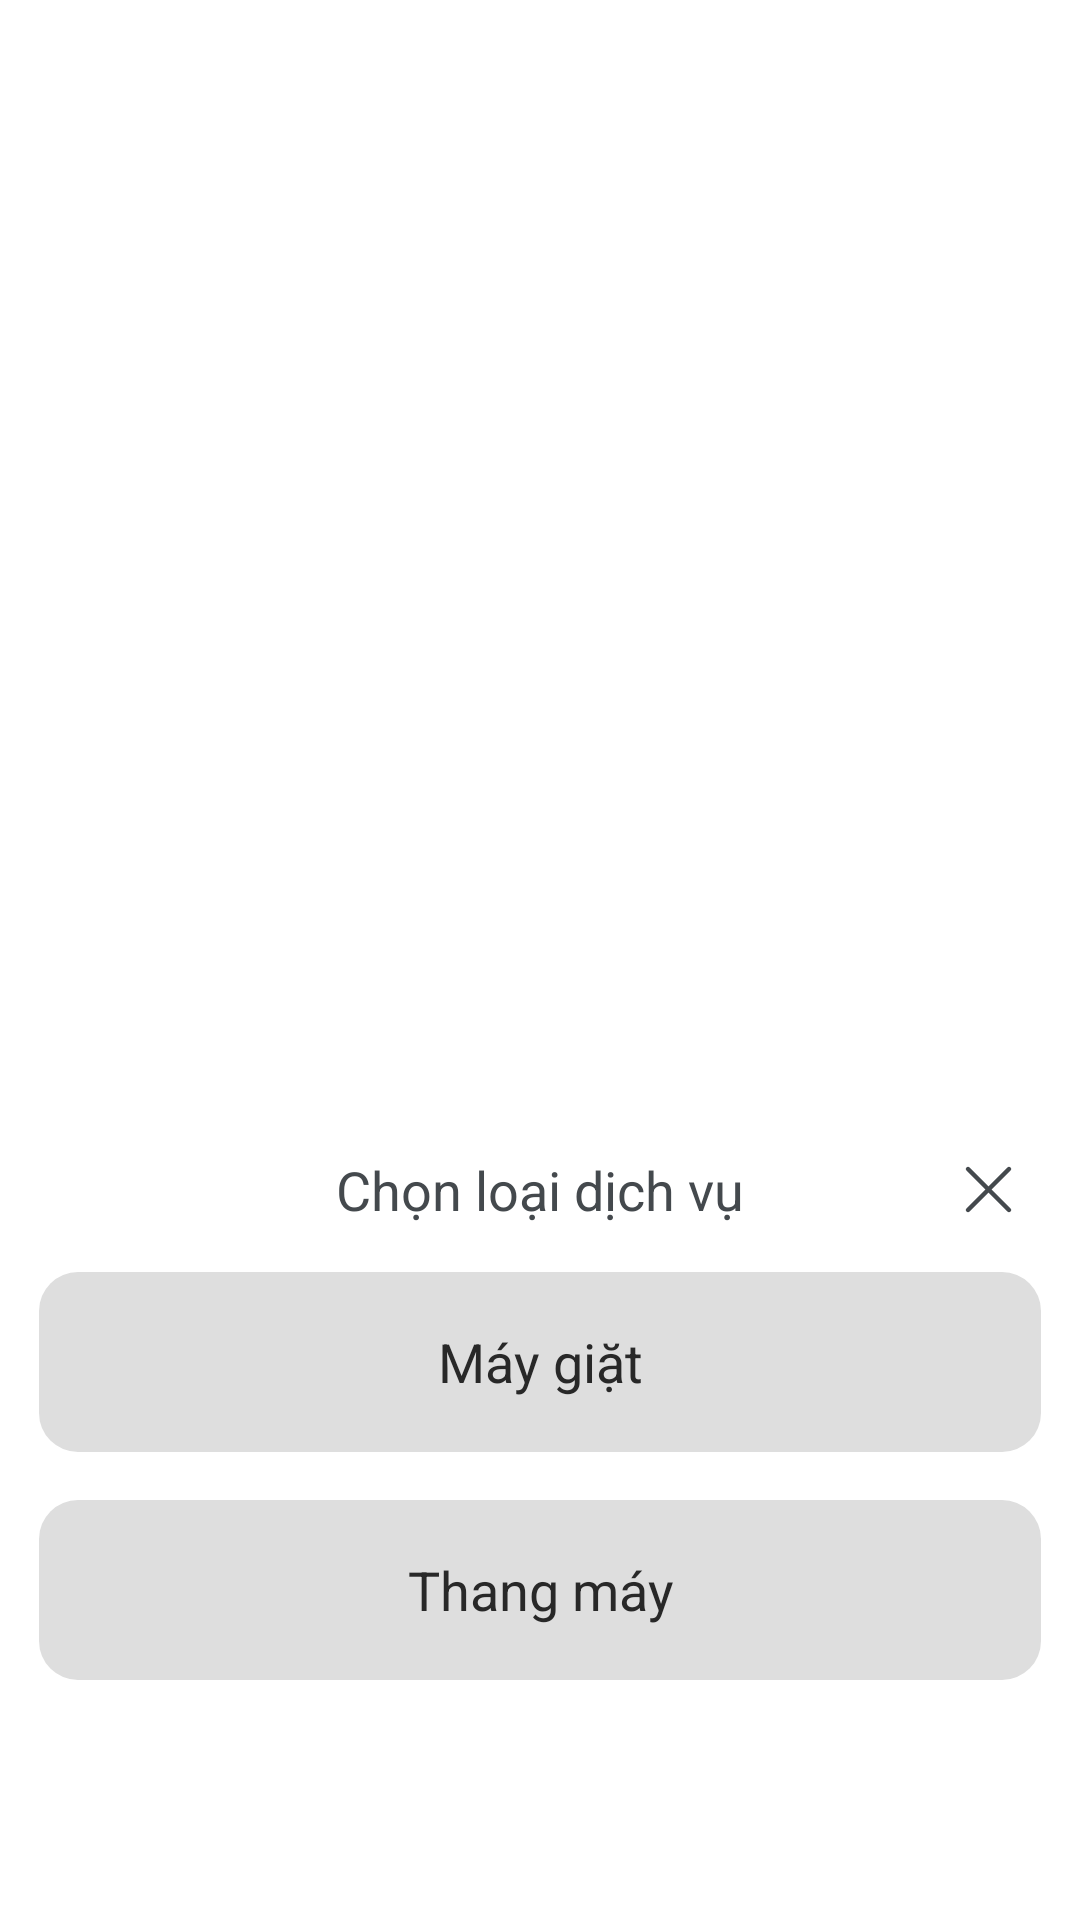

Locate icon controls on the screen. Image size 1080x1920, boxes as (x1, y1, x2, y2).
bsim close: (966, 1167, 1011, 1212)
